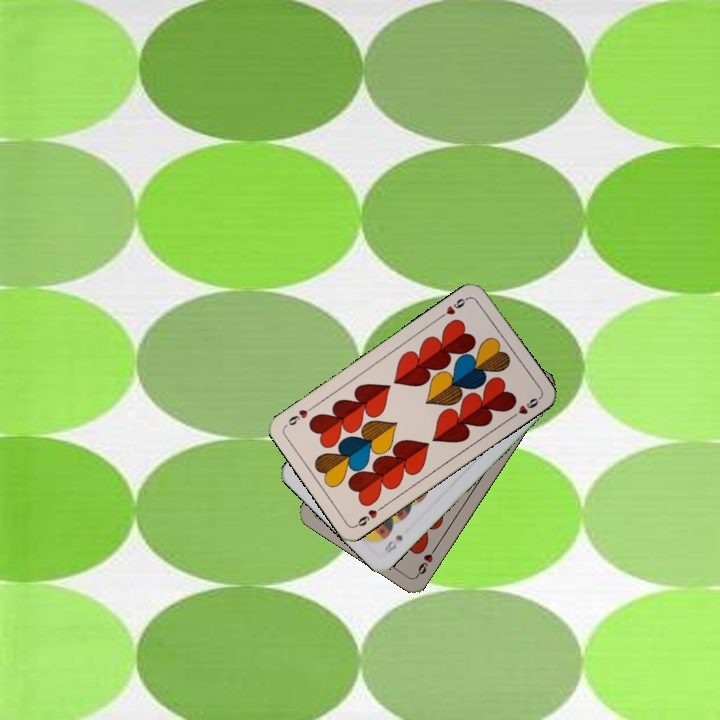H9: (351, 501, 387, 529), (436, 293, 472, 321), (412, 542, 439, 579)
S8: (380, 531, 406, 556)
